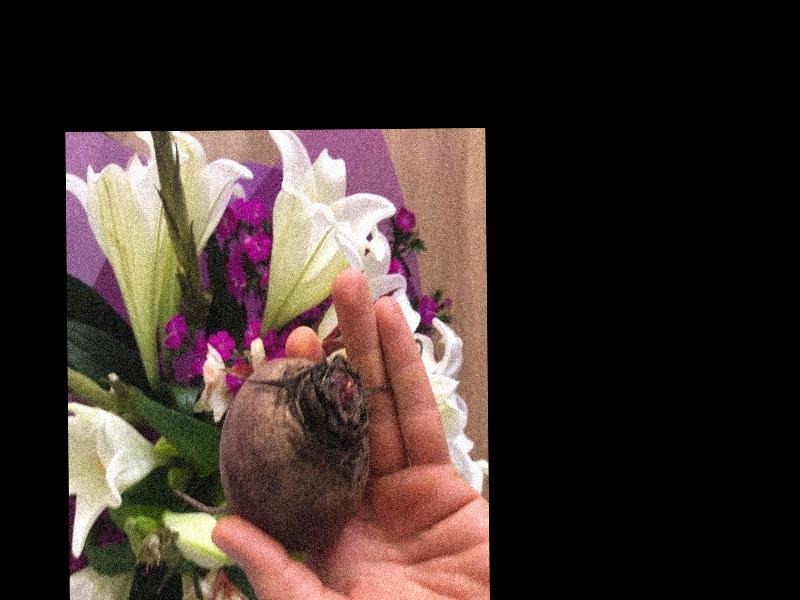Beet: (171, 356, 371, 553)
